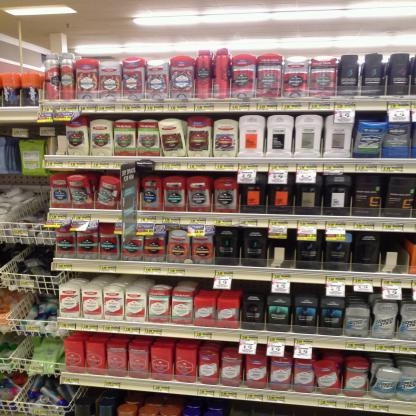Void: (384, 235, 404, 273), (293, 284, 319, 299), (243, 282, 268, 297)
